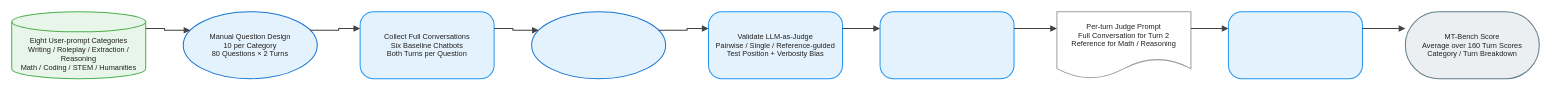
Some shapes in this 1552 by 91 pixel diagram are drawn without their labels. The shapes that lost their labels are listed below. From the top down, each one's box as (x1, y1, x2, y2) in pixels, then its label:
(531, 11, 666, 79): Controlled Human Evaluation 58 Expert-level Labelers ≈3K Pairwise Votes
(879, 11, 1014, 79): Standard MT-Bench Judge GPT-4 Single-answer Grading Scalability + Simplicity
(1228, 11, 1363, 79): Explain Judgment Score Each Turn 1–10 Correctness + Relevance + Helpfulness
